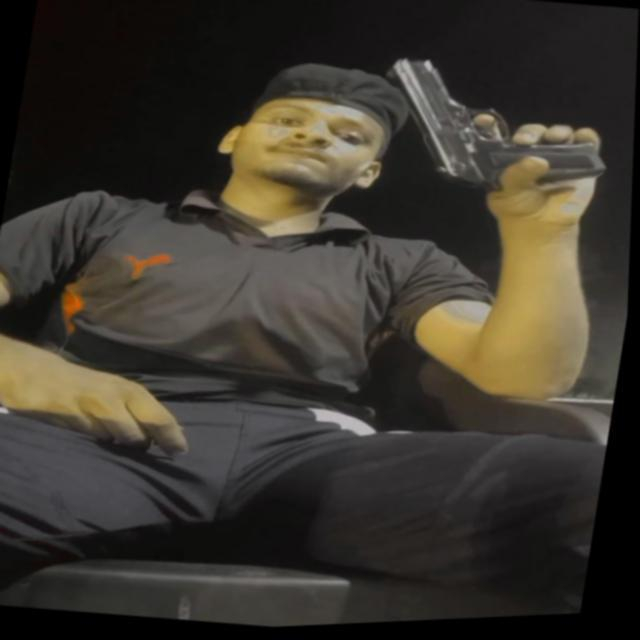weapon: (363, 48, 636, 220)
